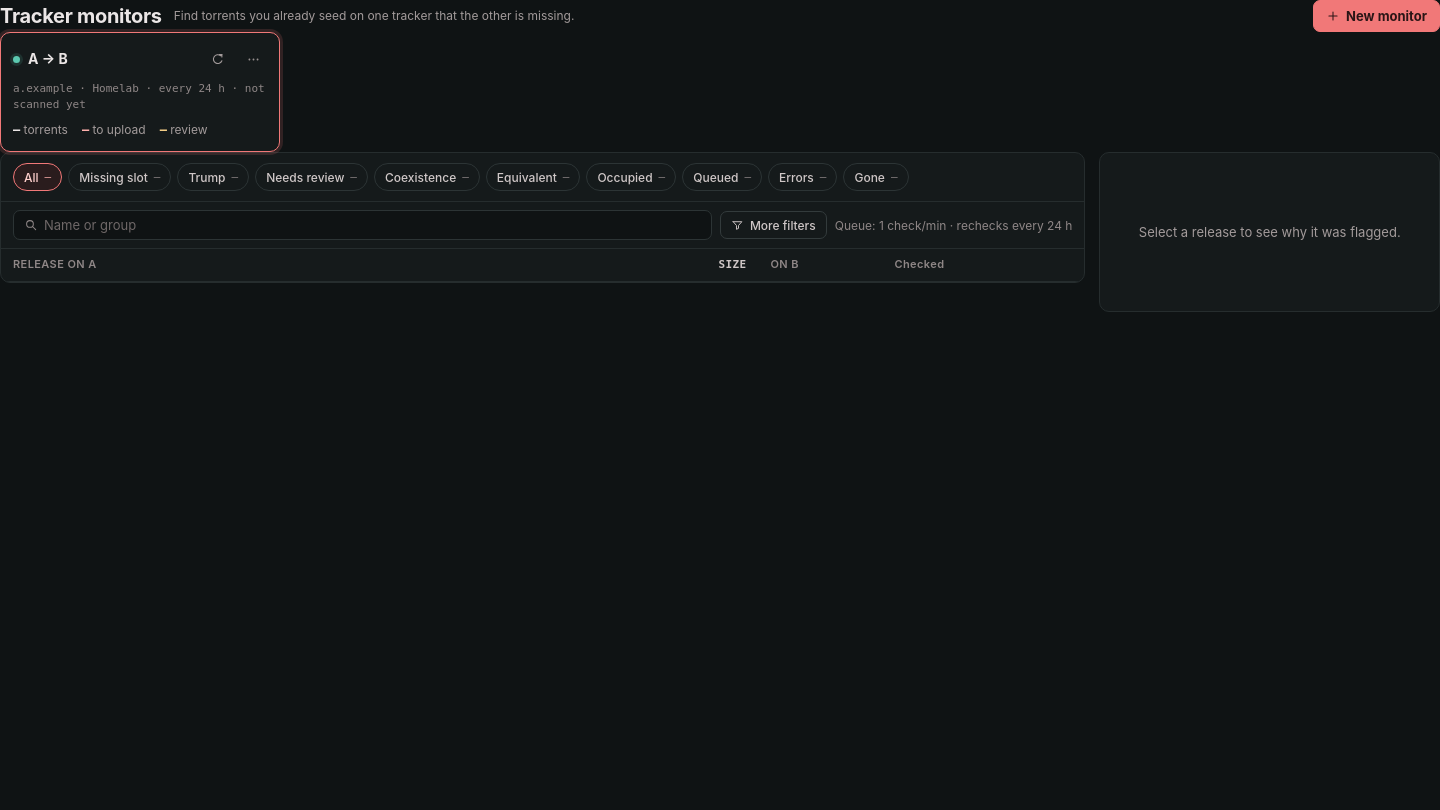
Test case: switches a scoped monitor to all instances
Step 1. Press ArrowDown in the button named "Monitor options", box [239,45,267,73]
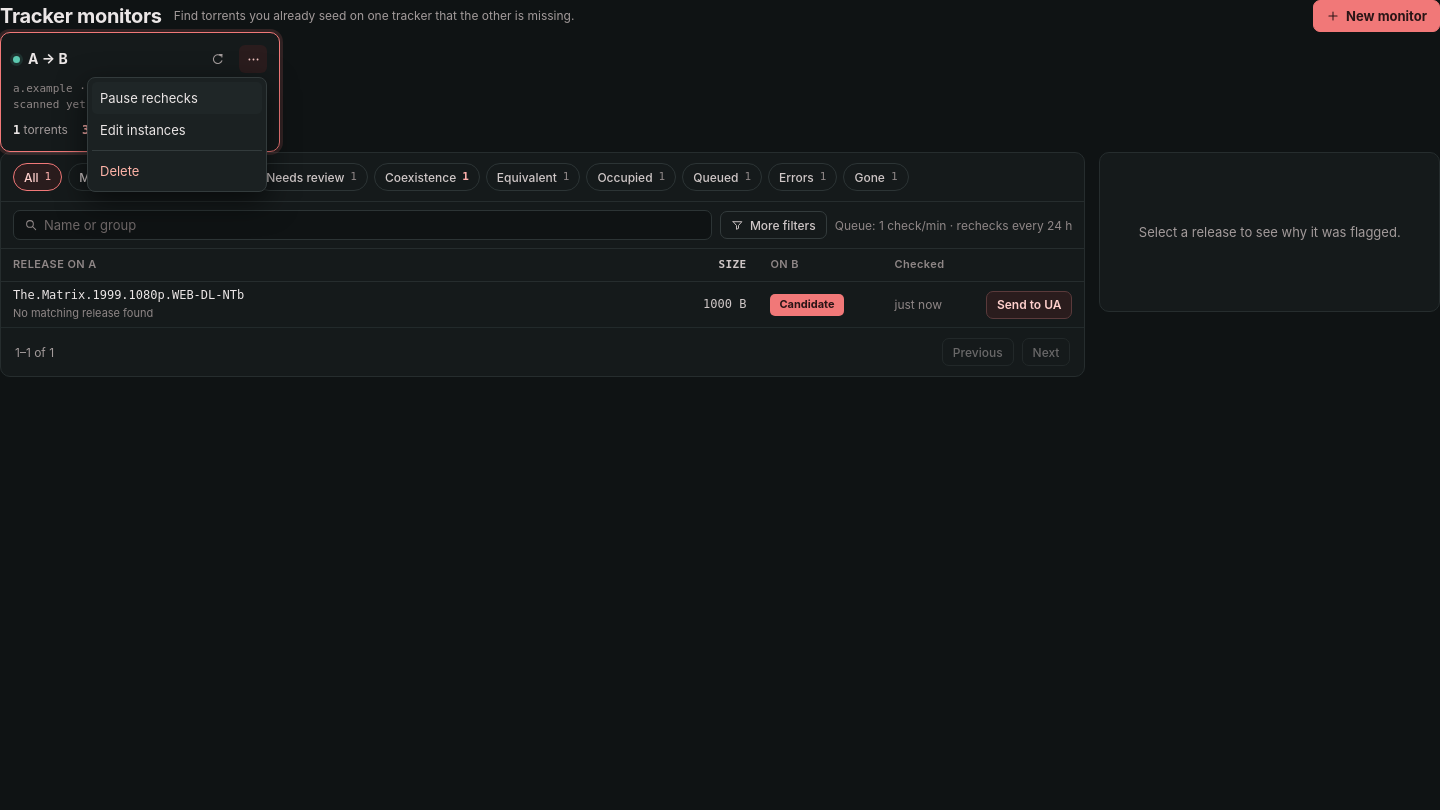
Step 2. Click the menu item "Edit instances" → (143, 130), box [100,122,186,138]
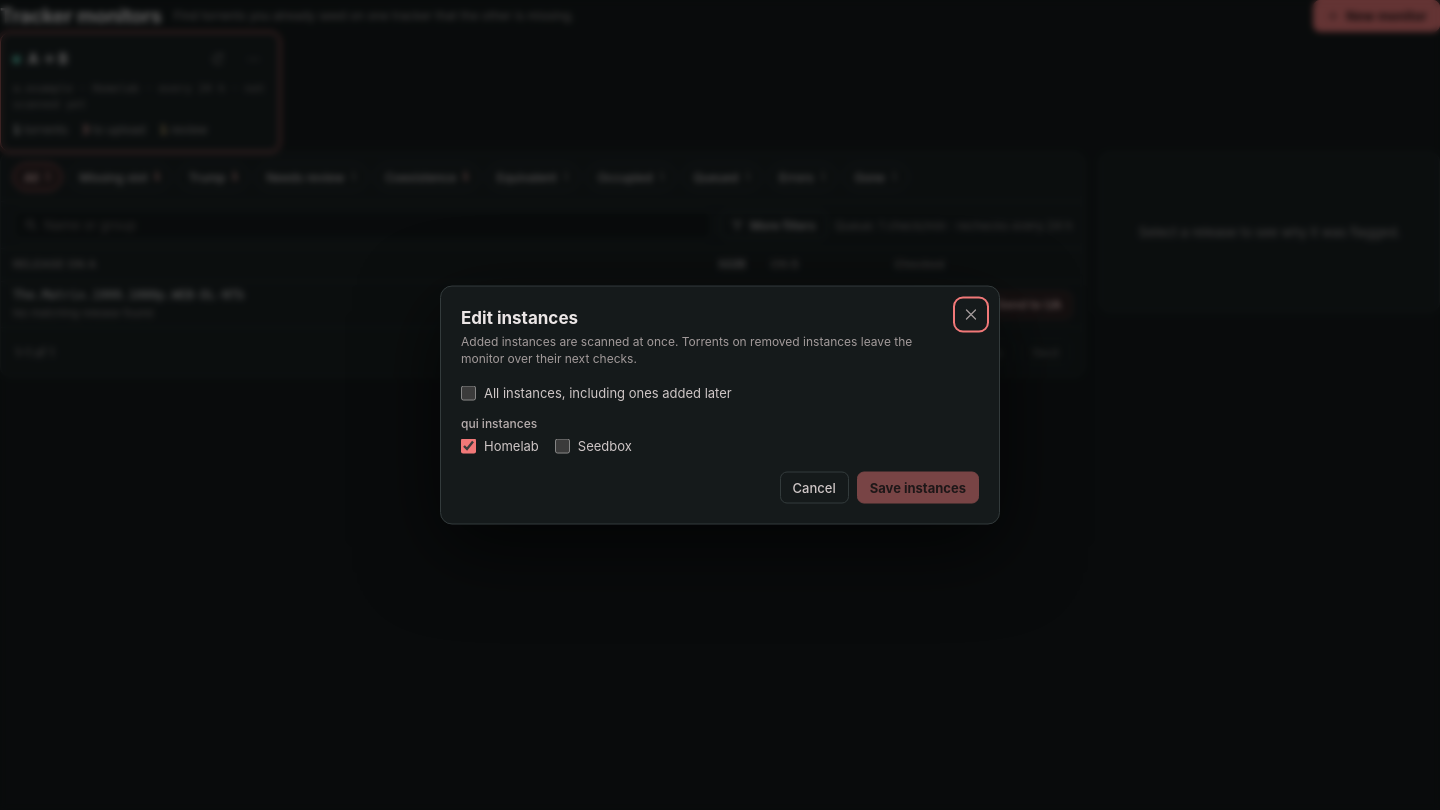
Now the checkbox labelled "Homelab" is checked, box [461,439,476,454]
Now the button "Save instances" is disabled, box [857,472,979,504]
Step 3. Click the checkbox labelled "All instances, including ones added later" → (468, 393), box [461,385,476,400]
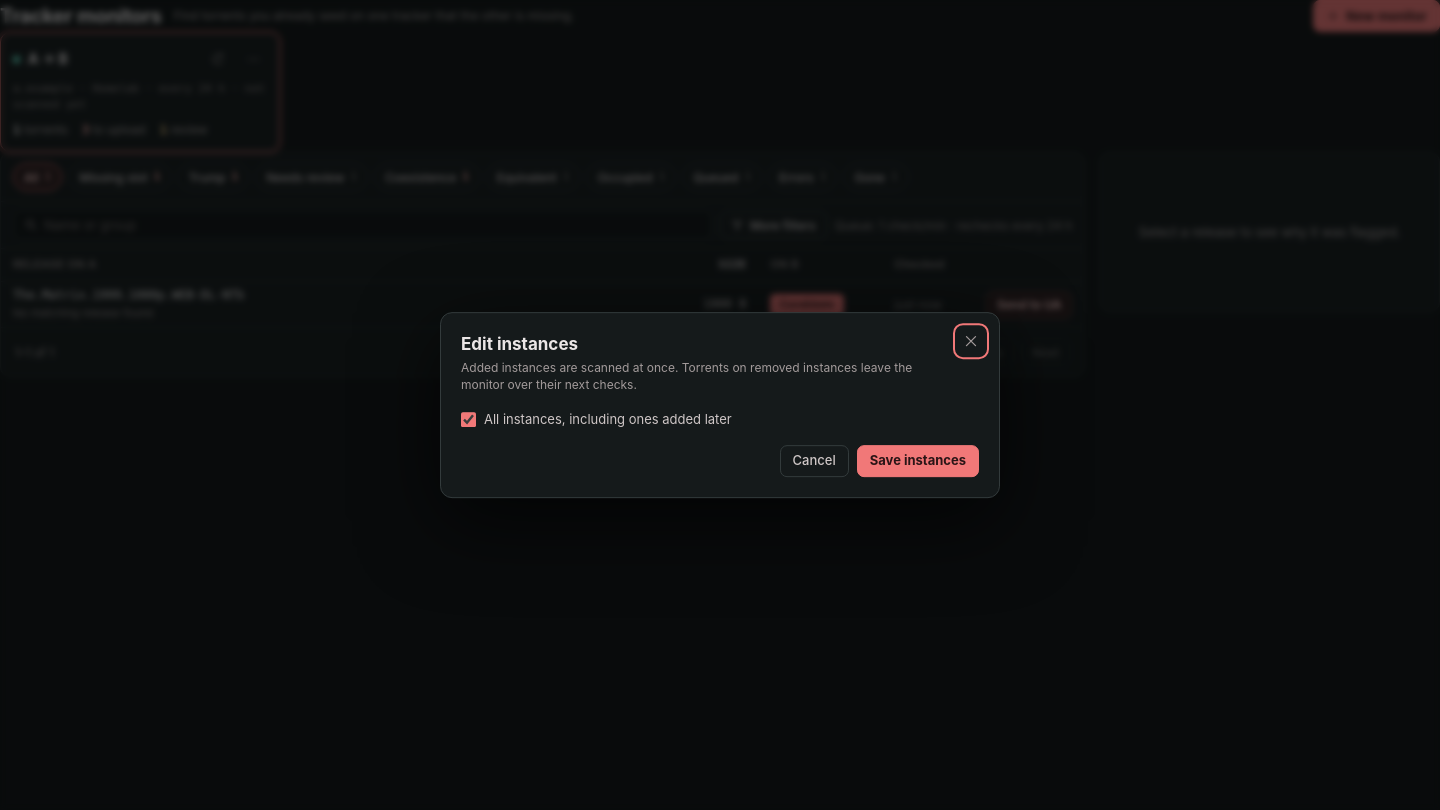
Step 4. Click the button "Save instances" → (918, 461), box [857,445,979,477]
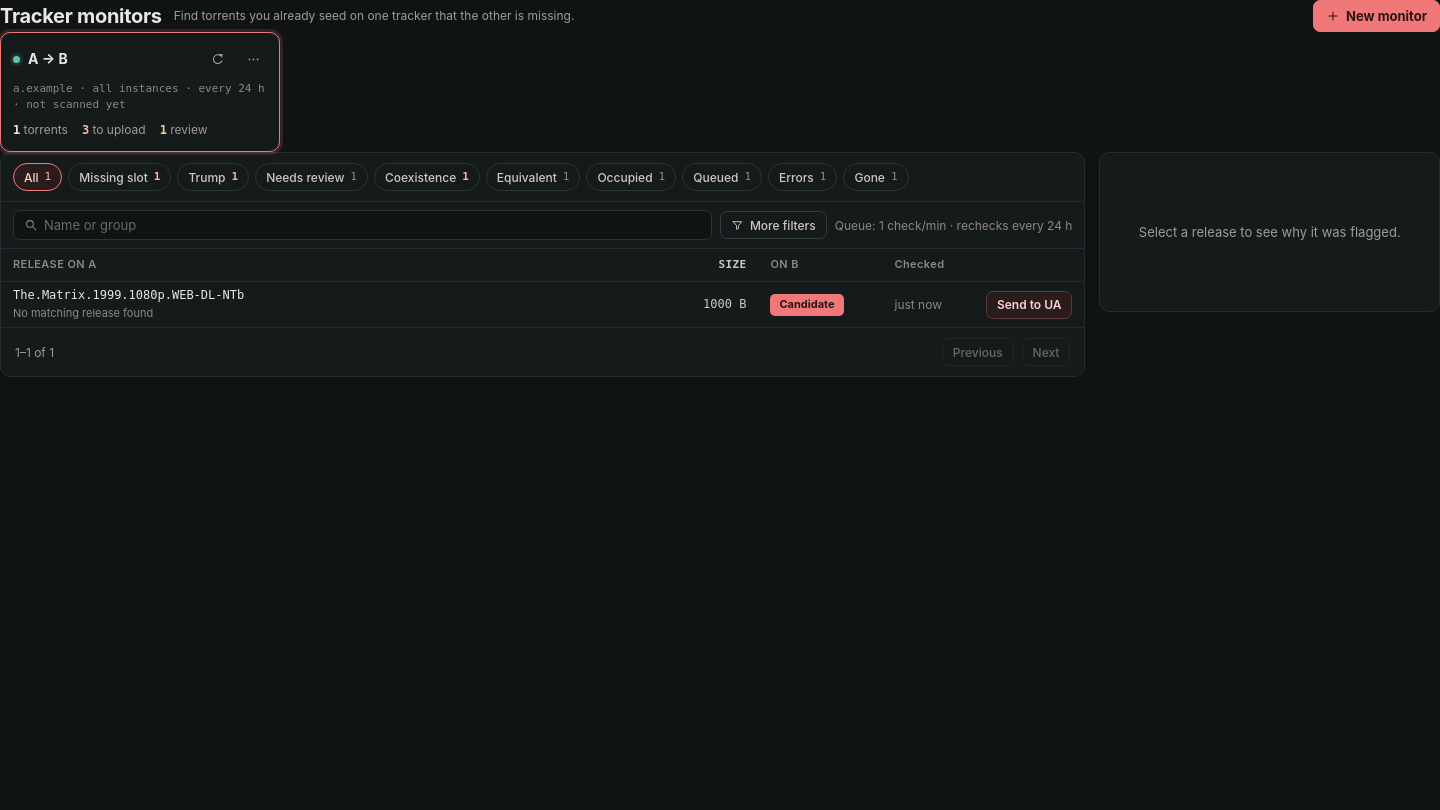
Now the dialog is gone
Now the text "a.example · all instances · every 24 h · not scanned yet" is shown, box [13,81,267,113]
